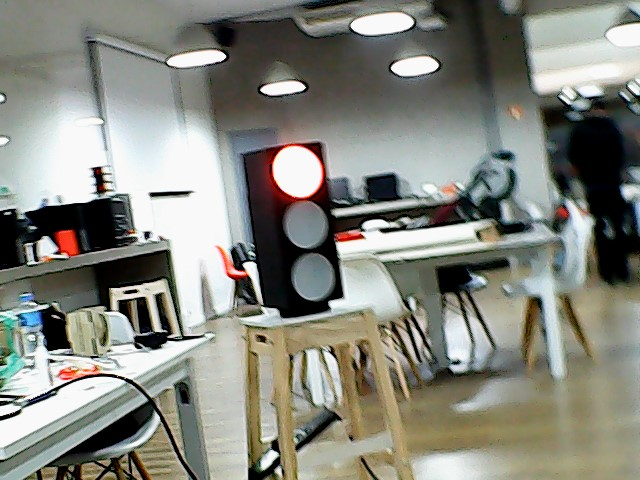vermelho: (234, 139, 352, 316)
